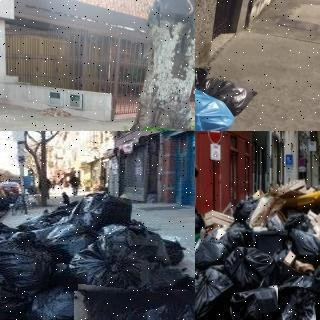Garbage: (67, 236, 153, 298), (72, 287, 195, 320), (195, 65, 259, 117), (0, 225, 51, 290), (25, 284, 102, 320), (80, 185, 133, 230), (224, 243, 275, 287), (195, 267, 229, 320), (229, 286, 280, 320), (195, 90, 236, 131), (277, 286, 317, 320)
